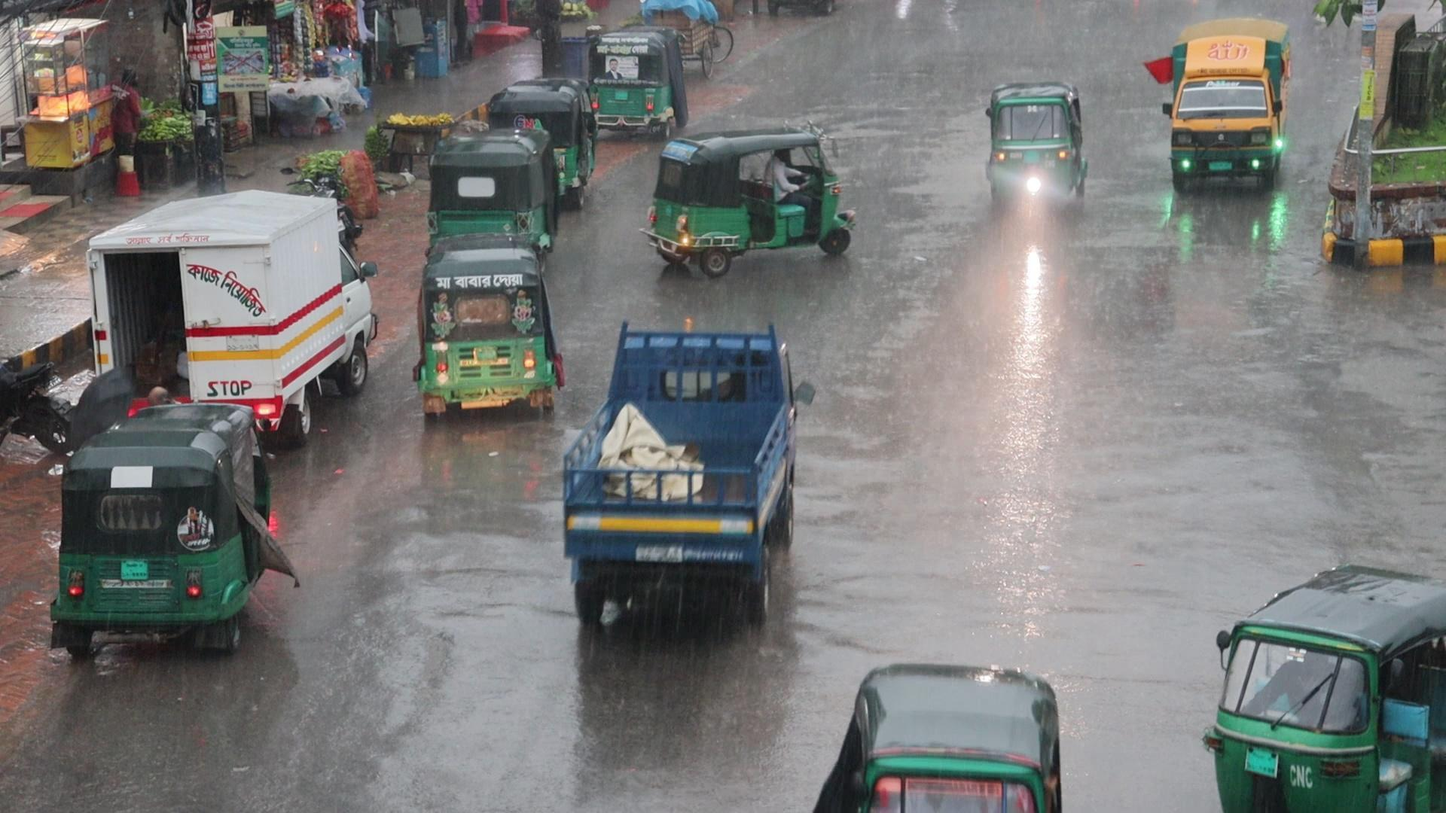Truck: (558, 315, 811, 632), (1162, 14, 1290, 190)
